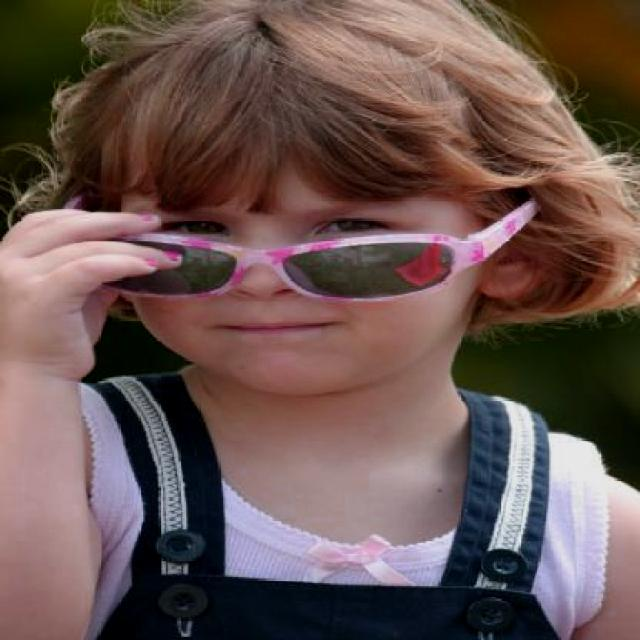face_nomask: (154, 208, 411, 358)
glasses: (54, 188, 543, 303)
hand_noglove: (0, 190, 177, 310)
head_nohelmet: (64, 2, 587, 195)
